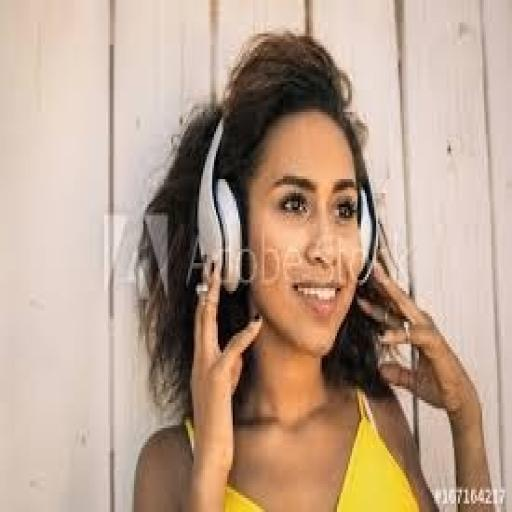listening_to_music: (128, 28, 501, 509)
